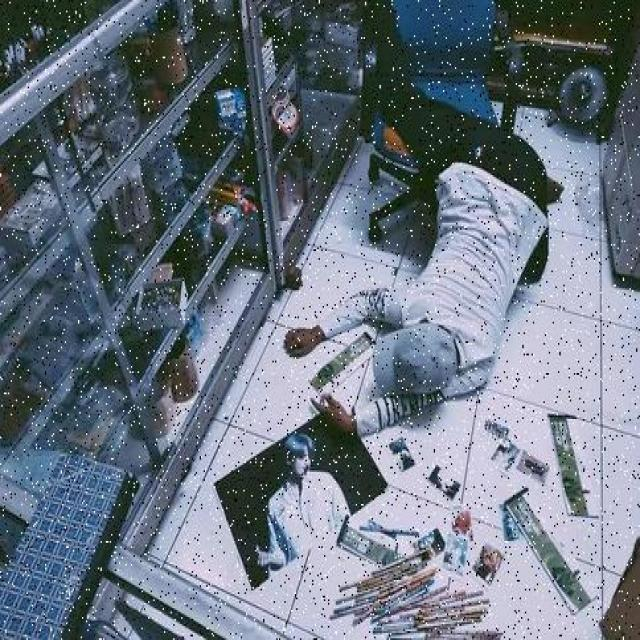fall: (303, 118, 554, 434)
